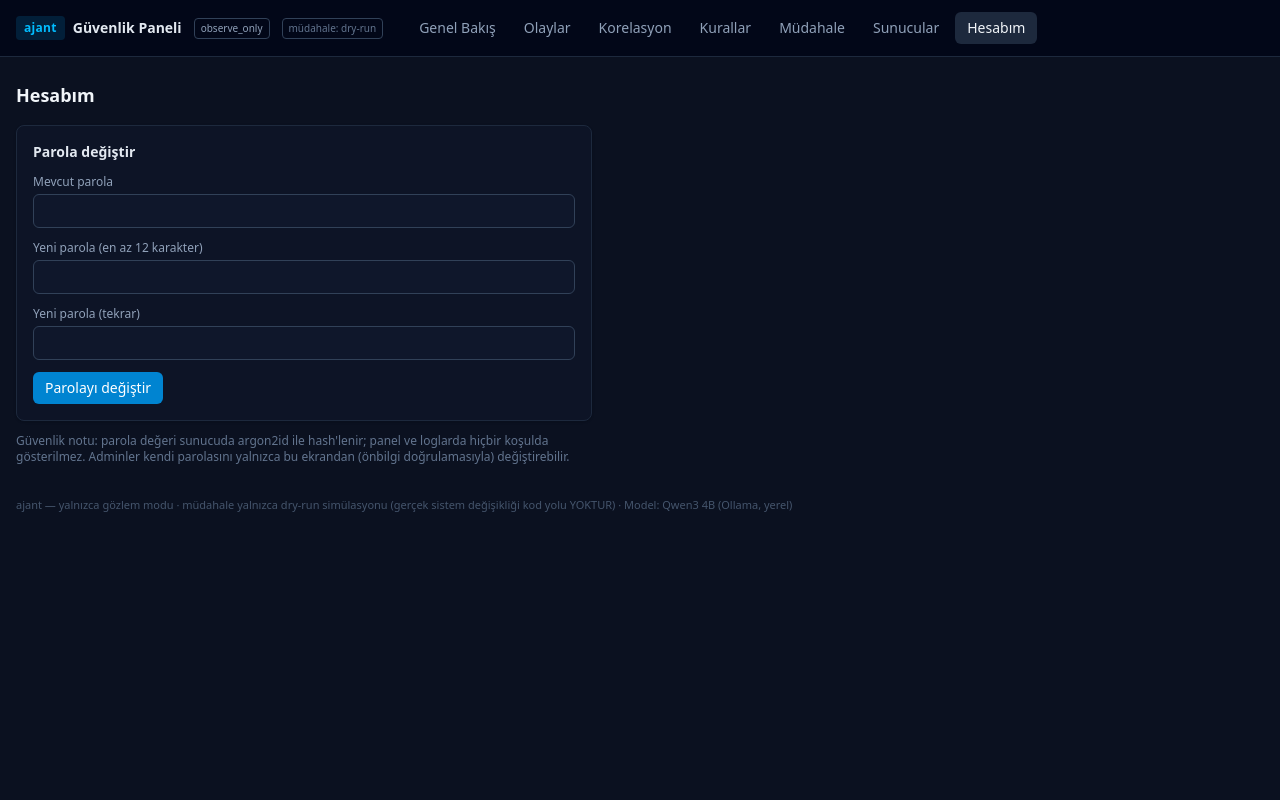
it: Hesabım sayfası (Faz 08) › doğru formda /users/me/password ucuna istek gönderir
The width and height of the screenshot is (1280, 800).
Type "eski-parola-1234" into the password field labelled "Mevcut parola" at coordinates (304, 211), box [33,194,575,228]
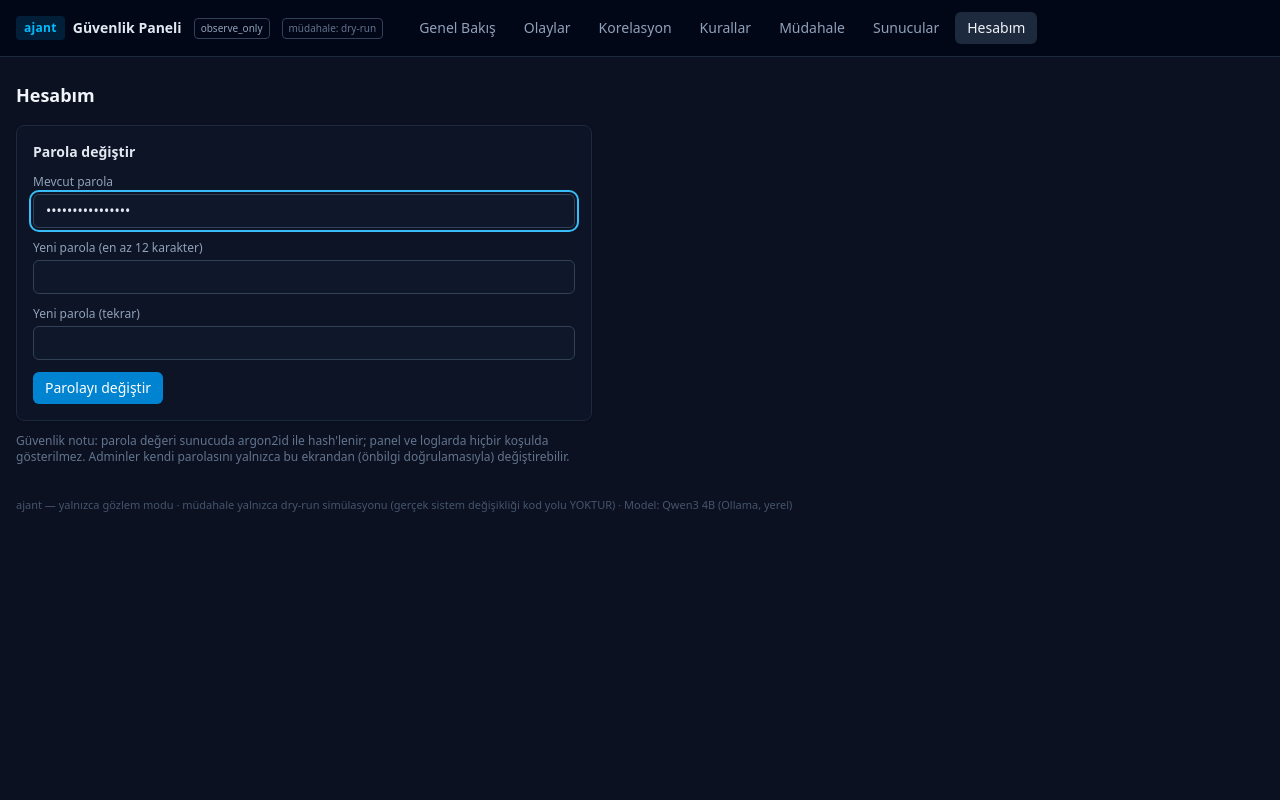
Type "yeni-parola-12345" into the password field labelled "Yeni parola (en az 12 karakter)" at coordinates (304, 277), box [33,260,575,294]
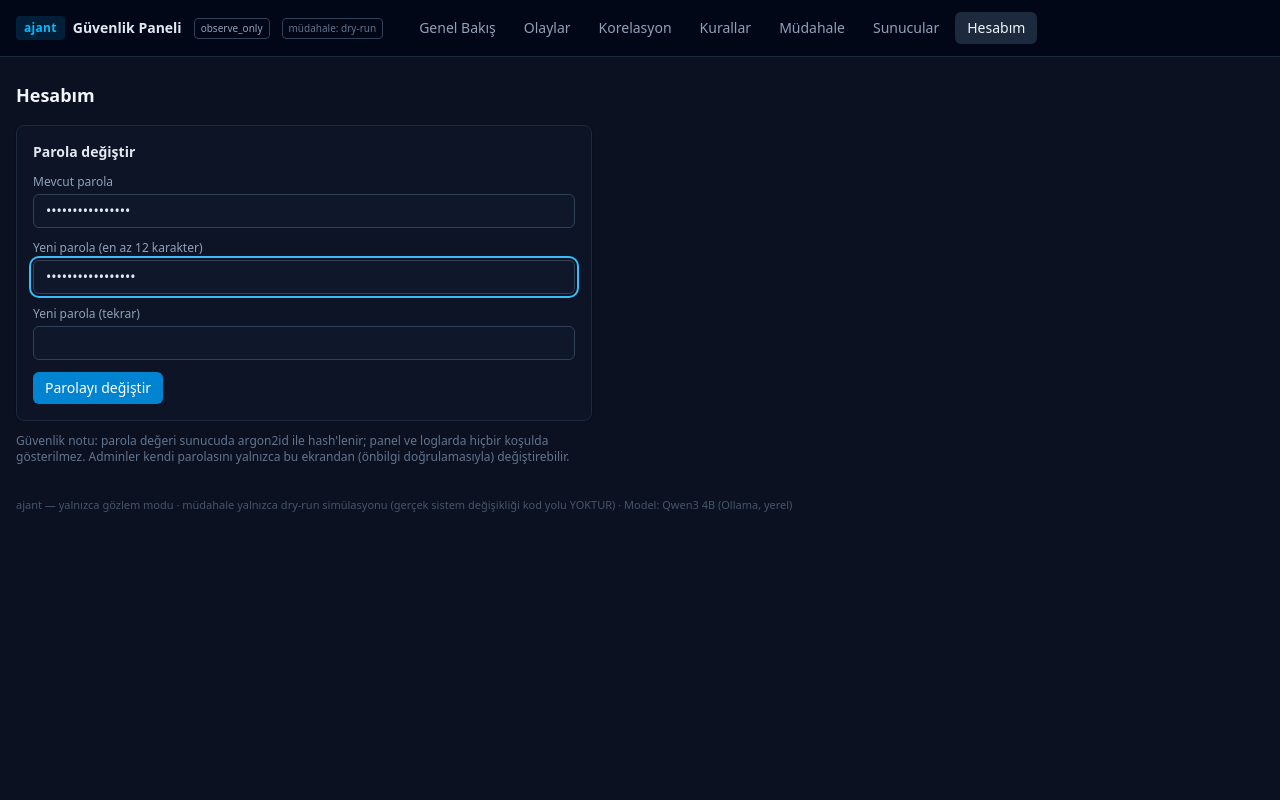
Type "yeni-parola-12345" into the password field labelled "Yeni parola (tekrar)" at coordinates (304, 343), box [33,326,575,360]
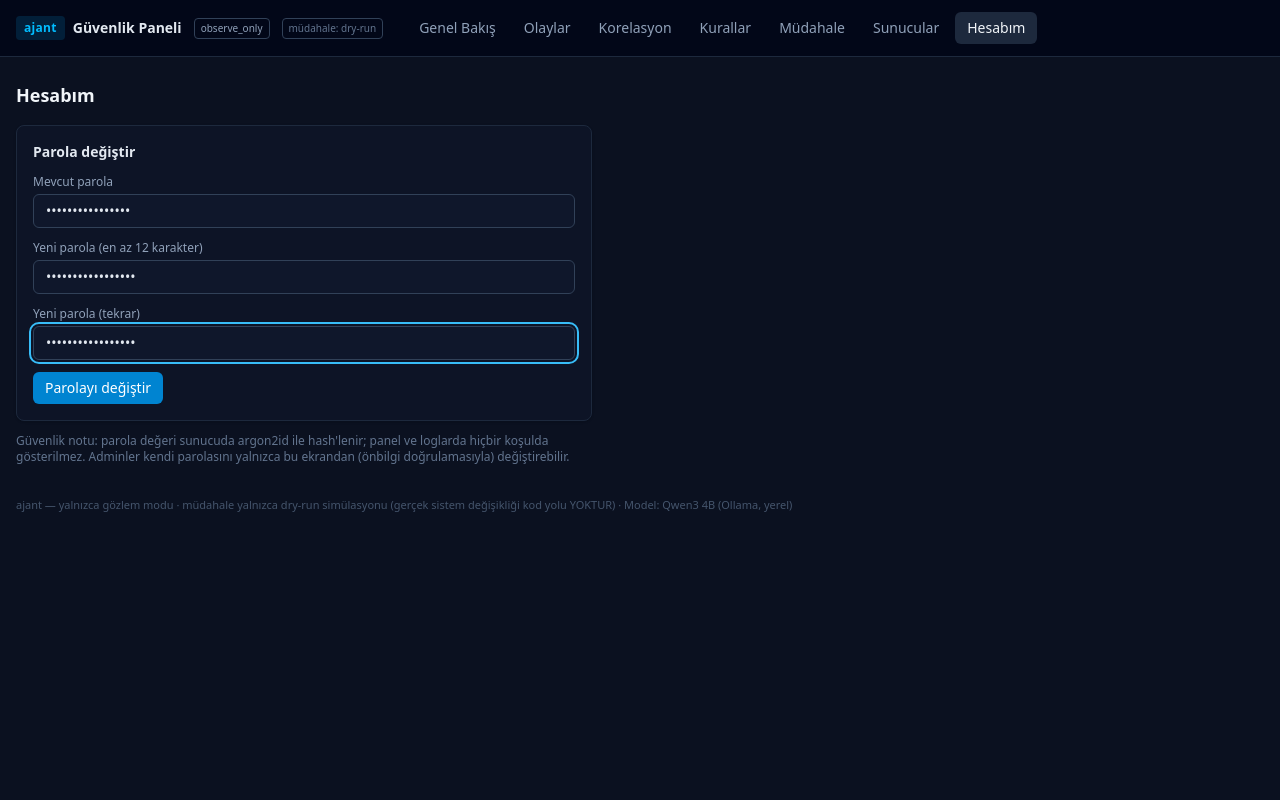
Click the button "Parolayı değiştir" at coordinates (98, 388), box [33,372,163,404]
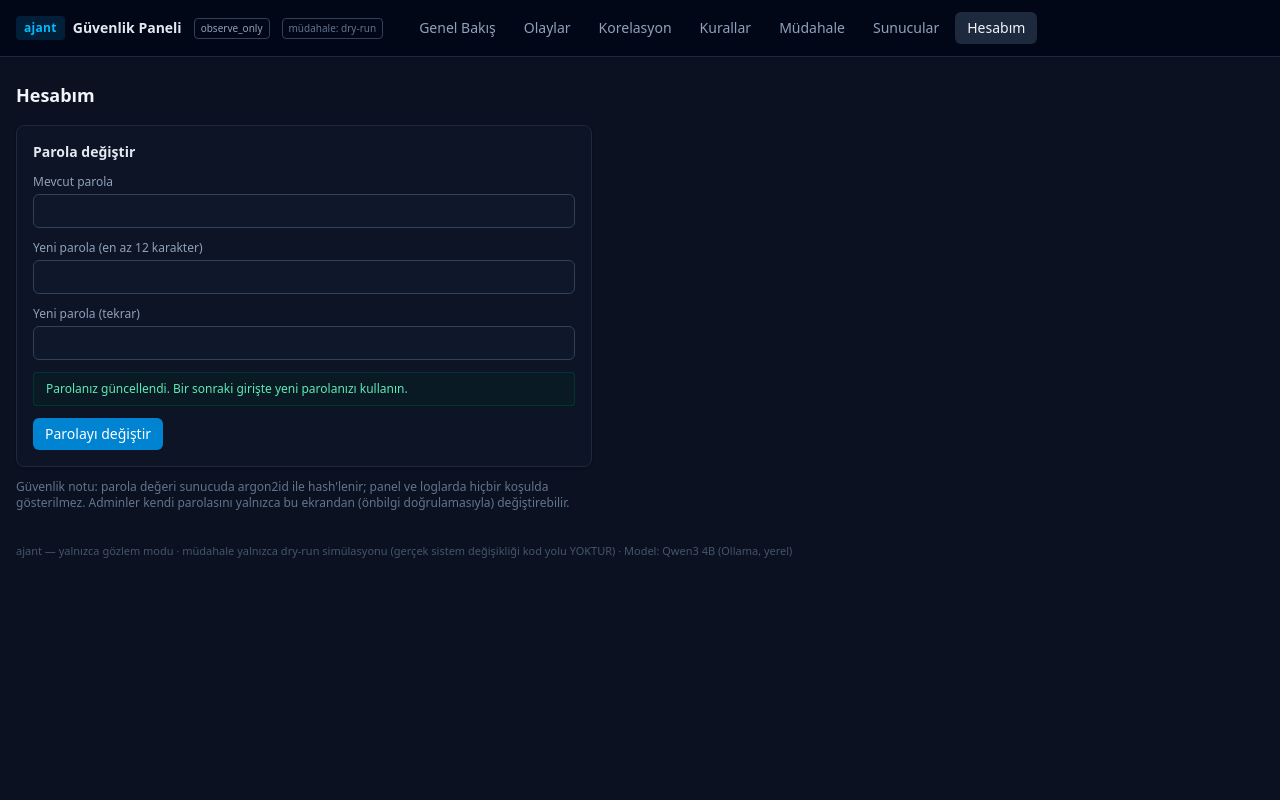
Expected: the message with test id "hesabim-success" shows "Parolanız güncellendi", [46,380,408,397]
